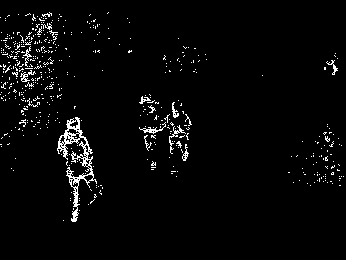person: (58, 117, 103, 223), (139, 92, 166, 172), (166, 99, 192, 178)
